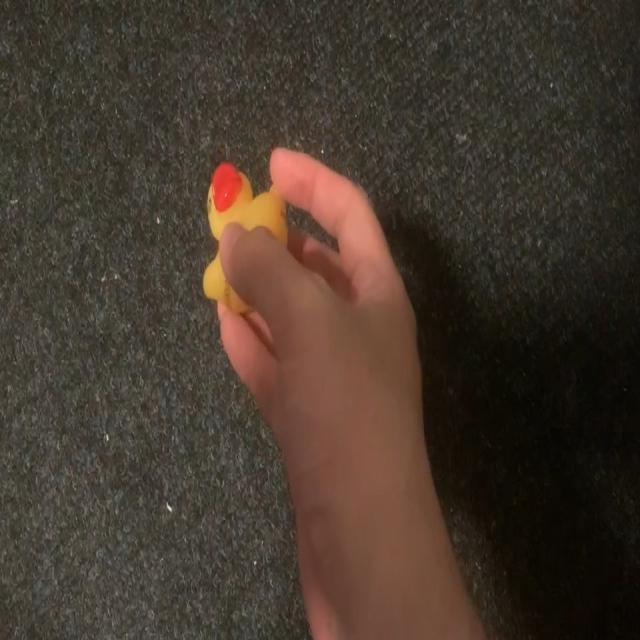rubber-duck: (207, 162, 285, 242), (202, 253, 248, 311)
